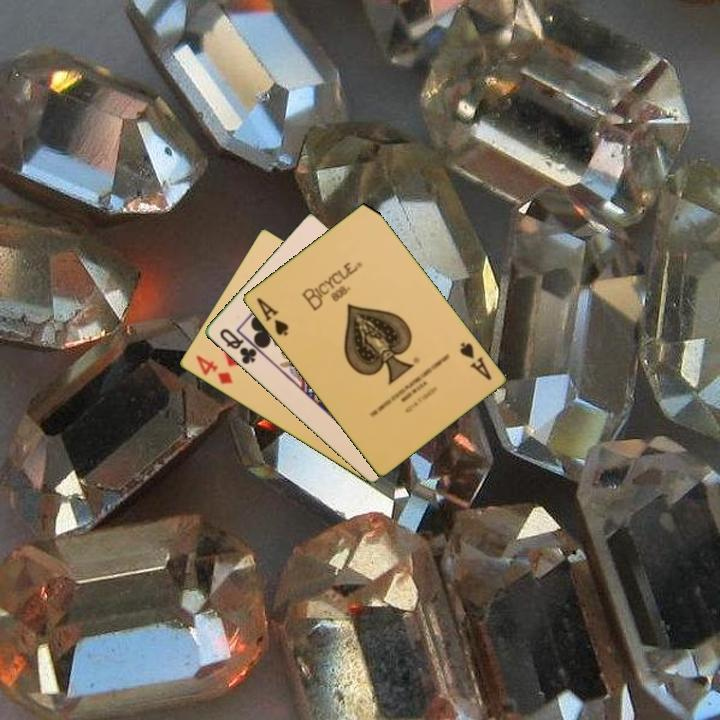4d: (192, 351, 235, 387)
As: (253, 294, 291, 339), (456, 338, 494, 383)
Qc: (216, 325, 260, 367)
